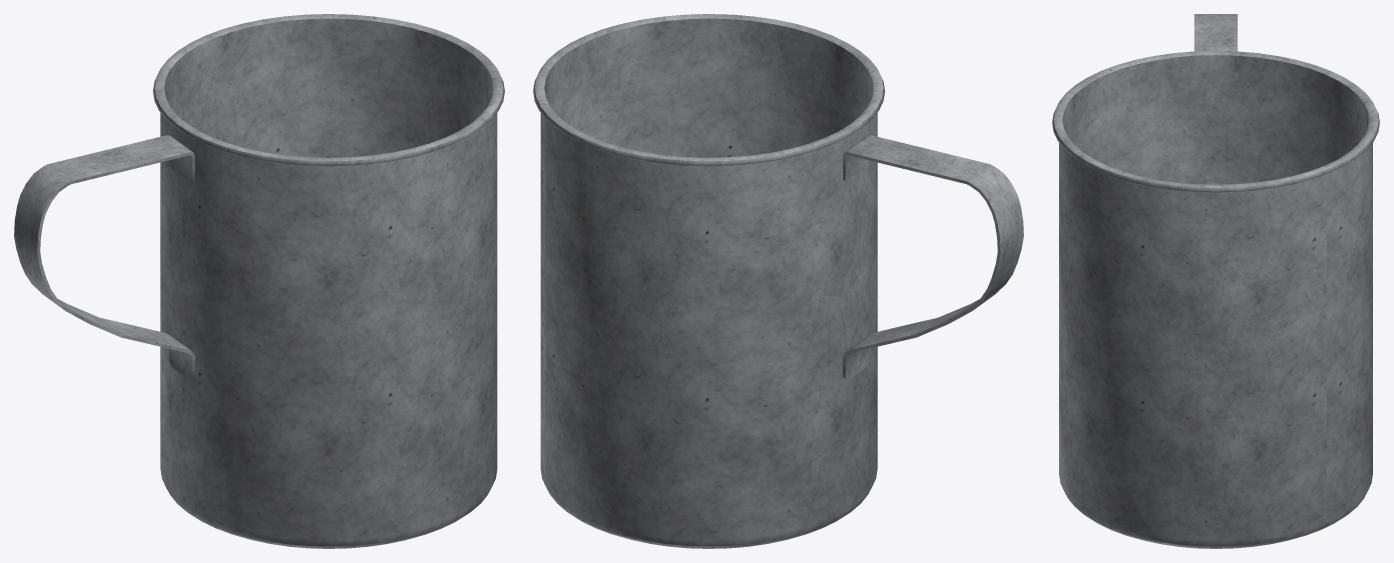
File: mug.glb
3 renders of one model, left to right at view 1: azimuth 30°, elevation 25°; view 2: azimuth 150°, elevation 25°; view 3: azimuth 270°, elevation 25°, orthographic. The views are drawn at different scales.
Visible parts, largest first — view 1: Mug7; view 2: Mug7; view 3: Mug7.
Boxes of the visible parts, <box> form: Mug7: <box>14,14,504,548</box>; Mug7: <box>533,14,1023,548</box>; Mug7: <box>1052,14,1379,548</box>.
Size of the model in its own units: 7.95 by 6.65 by 5.32.
Materials: 1 (1 with a texture image).
